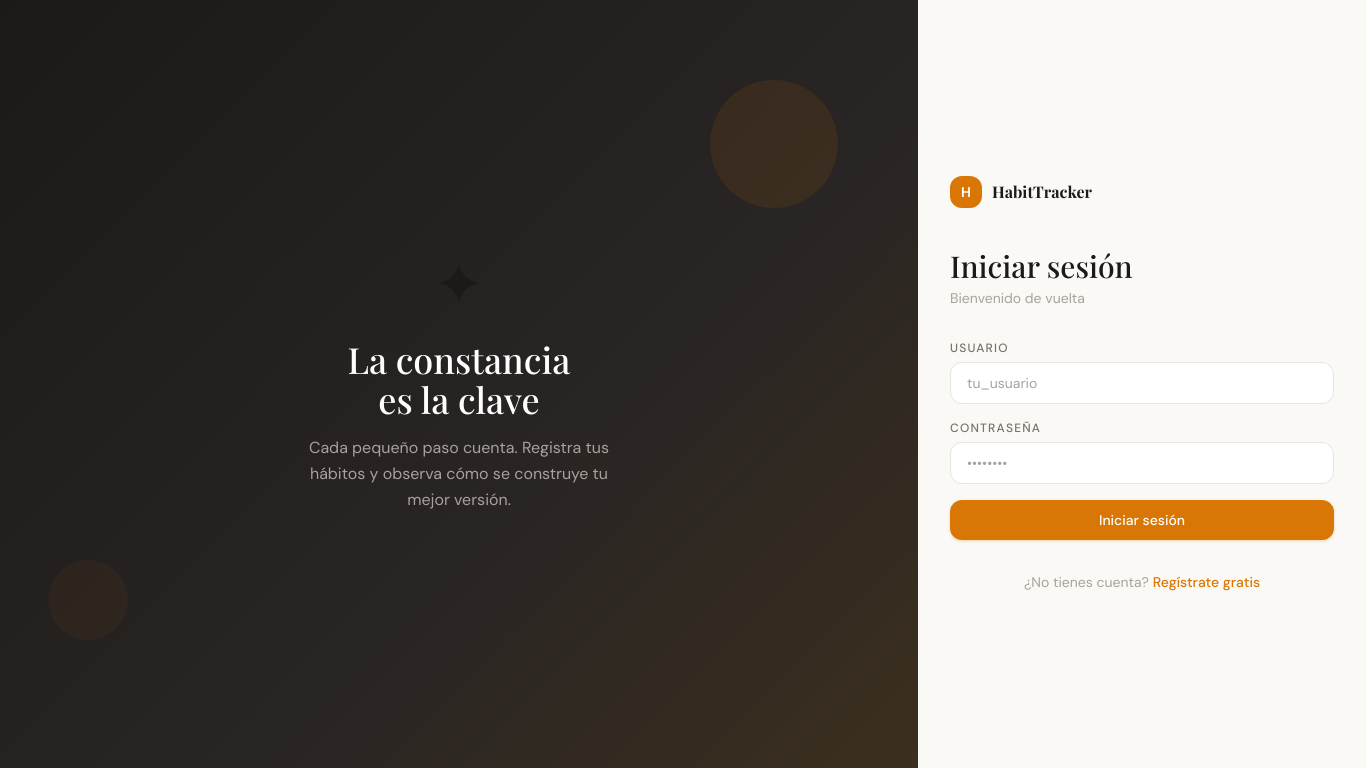
Test case: LoginPage — validaciones › muestra error si la contraseña está vacía
Type "testuser" into the field with placeholder "tu_usuario" at point(1142, 383), box 950,362 -> 1334,404
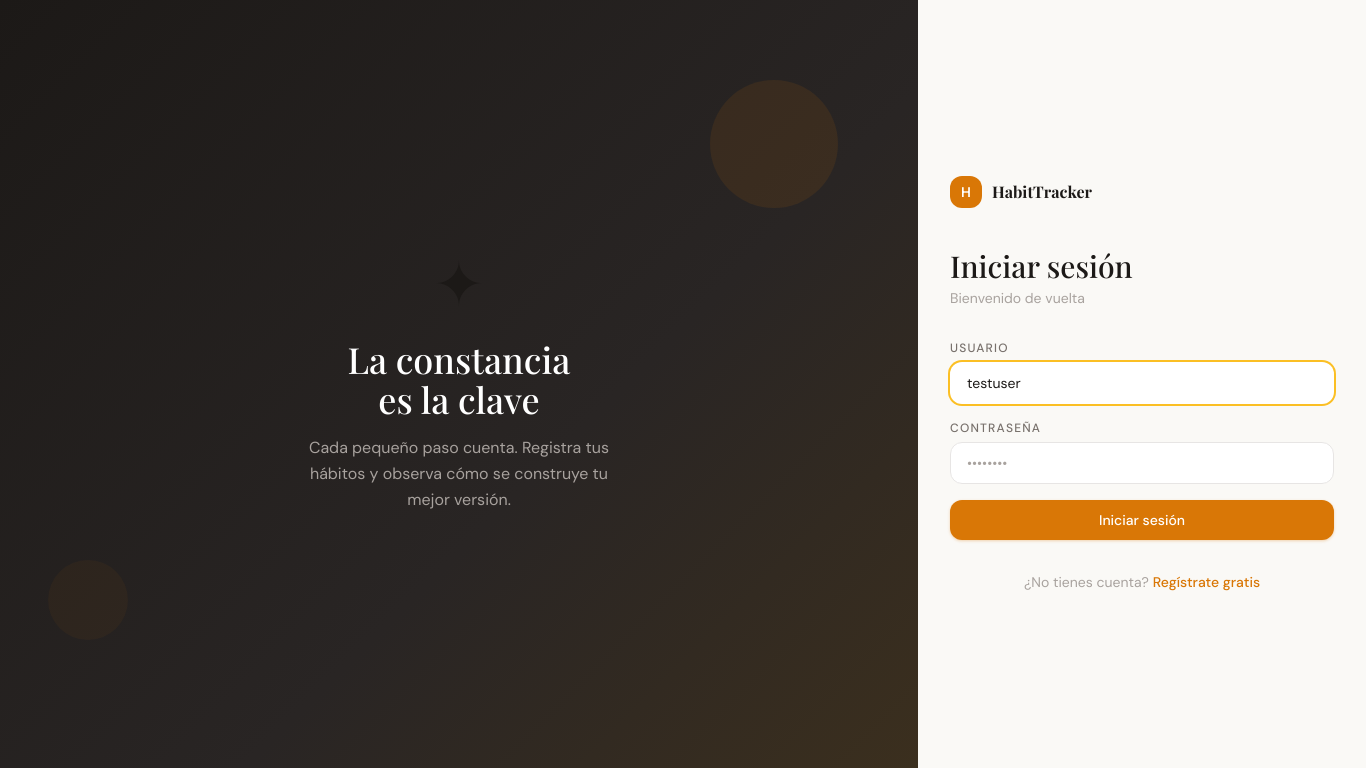
Click the button "Iniciar sesión" at point(1142, 520), box 950,500 -> 1334,540
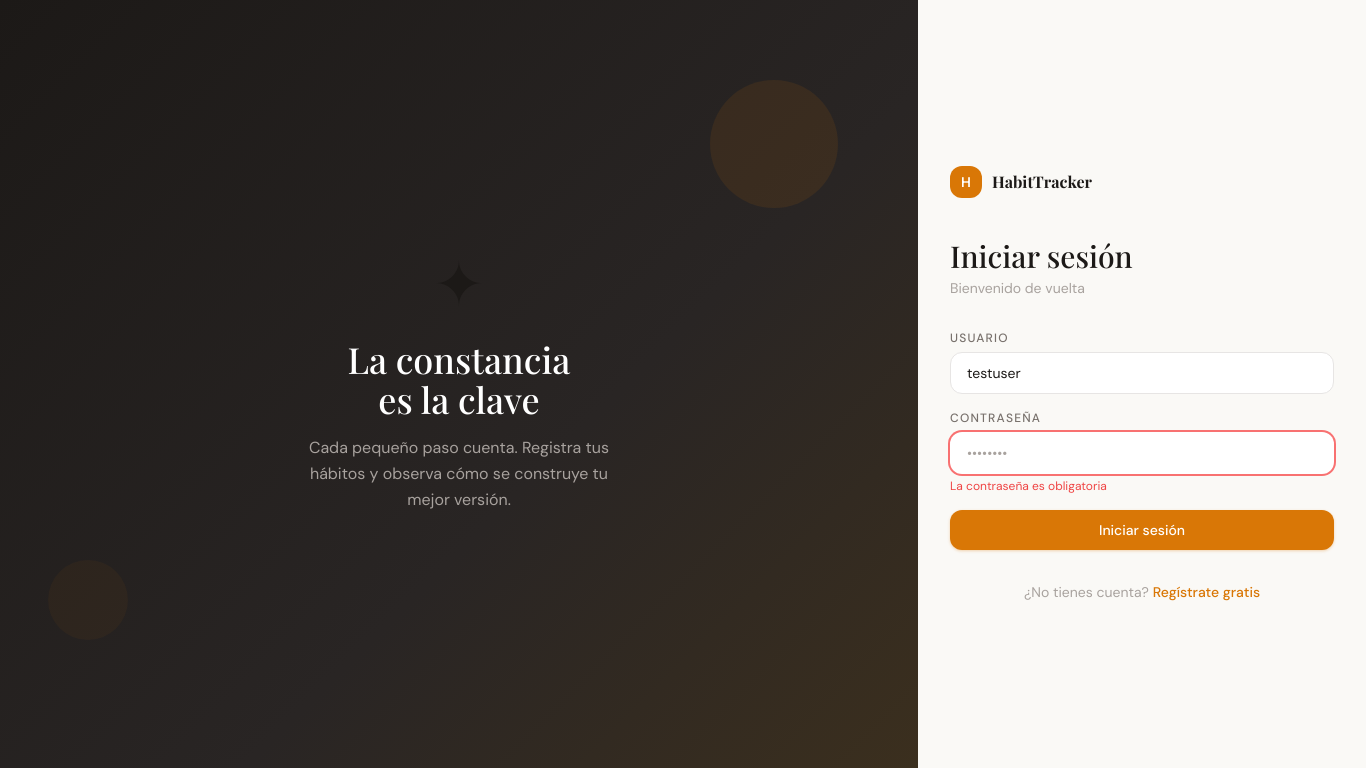
Expected: the text "La contraseña es obligatoria" is shown, 950,478 -> 1107,494
